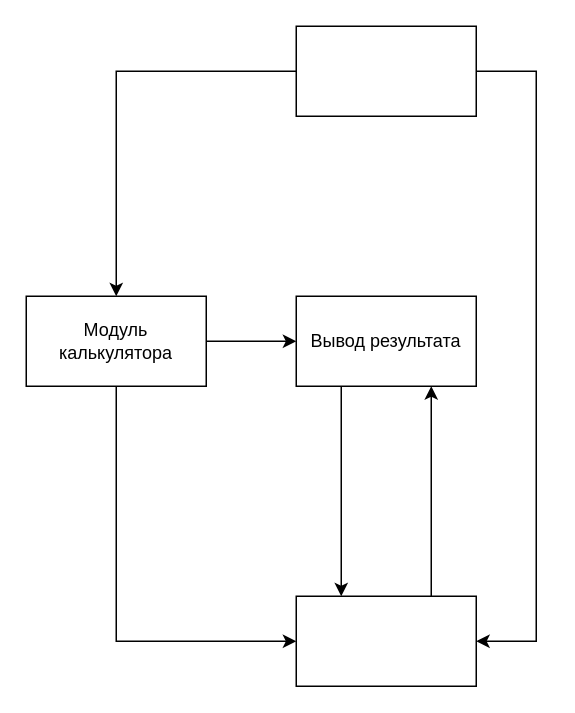
Some shapes in this 575 by 713 pixel diagram are drawn without their labels. The shapes that lost their labels are listed below. From the top down, each one's centre as x and y in pixels, then its label:
(x=385, y=70): Запрос ввода; Меню калькулятора
(x=385, y=640): Журнал логирования операции (БД)
